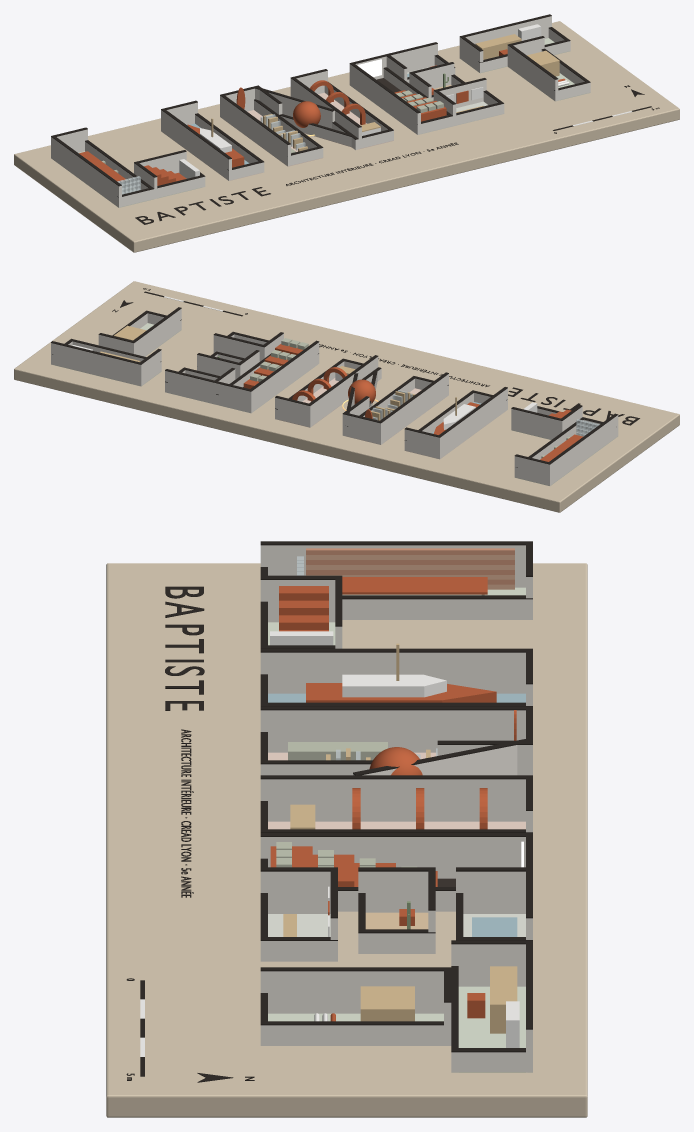
The model's file is maison-linet.glb.
3 views of the same model, one above another, from view 1: azimuth 30°, elevation 25°; view 2: azimuth 150°, elevation 25°; view 3: azimuth 270°, elevation 25° (orthographic). The views are drawn at different scales.
Parts seen in each view (by area): view 1: socle, wall_L_stem_3, wall_N_left_3, wall_E_stem_3, wall_I_3, wall_T_stem_3, wall_T_bar_0, wall_E_top_0, wall_N_right_3, wall_N_diag_0, wall_E_mid_0, bulle (+18 smaller); view 2: socle, wall_T_bar_0, wall_L_stem_3, wall_I_3, wall_E_stem_3, wall_N_left_3, wall_L_foot_0, wall_N_right_3, wall_E_top_0, wall_T_stem_3, wall_N_left_0, wall_I_0 (+9 smaller); view 3: socle, wall_N_right_3, wall_N_left_3, wall_I_3, wall_E_stem_3, wall_T_stem_3, wall_L_stem_1, wall_T_stem_1, wall_E_top_3, wall_E_bot_3, wall_E_mid_3, table_partagee (+38 smaller).
Part boxes in pixels (x1,y1,x2,y2): socle: [14, 21, 679, 252]; wall_L_stem_3: [51, 137, 121, 207]; wall_N_left_3: [220, 96, 290, 166]; wall_E_stem_3: [351, 65, 420, 134]; wall_I_3: [162, 111, 231, 180]; wall_T_stem_3: [508, 45, 558, 100]; wall_T_bar_0: [459, 16, 551, 58]; wall_E_top_0: [391, 44, 437, 72]; wall_N_right_3: [290, 78, 361, 148]; wall_N_diag_0: [255, 88, 334, 128]; wall_E_mid_0: [409, 64, 454, 88]; bulle: [293, 101, 320, 127]; socle: [14, 281, 679, 512]; wall_T_bar_0: [51, 343, 141, 385]; wall_L_stem_3: [547, 415, 618, 485]; wall_I_3: [437, 388, 507, 458]; wall_E_stem_3: [248, 342, 319, 412]; wall_N_left_3: [379, 374, 448, 443]; wall_L_foot_0: [511, 409, 564, 439]; wall_N_right_3: [307, 357, 378, 425]; wall_E_top_0: [165, 371, 215, 404]; wall_T_stem_3: [131, 309, 181, 356]; wall_N_left_0: [345, 415, 382, 444]; wall_I_0: [404, 429, 440, 459]; socle: [106, 563, 587, 1117]; wall_N_right_3: [260, 779, 525, 821]; wall_N_left_3: [260, 710, 525, 752]; wall_I_3: [260, 652, 525, 693]; wall_E_stem_3: [260, 837, 525, 878]; wall_T_stem_3: [260, 971, 443, 1013]; wall_L_stem_1: [342, 599, 532, 619]; wall_T_stem_1: [268, 1025, 443, 1045]; wall_E_top_3: [456, 871, 525, 913]; wall_E_bot_3: [260, 871, 330, 913]; wall_E_mid_3: [358, 871, 428, 912]; table_partagee: [342, 577, 487, 594].
Size of the model in its own units: 27.8 by 2.15 by 10.6.
